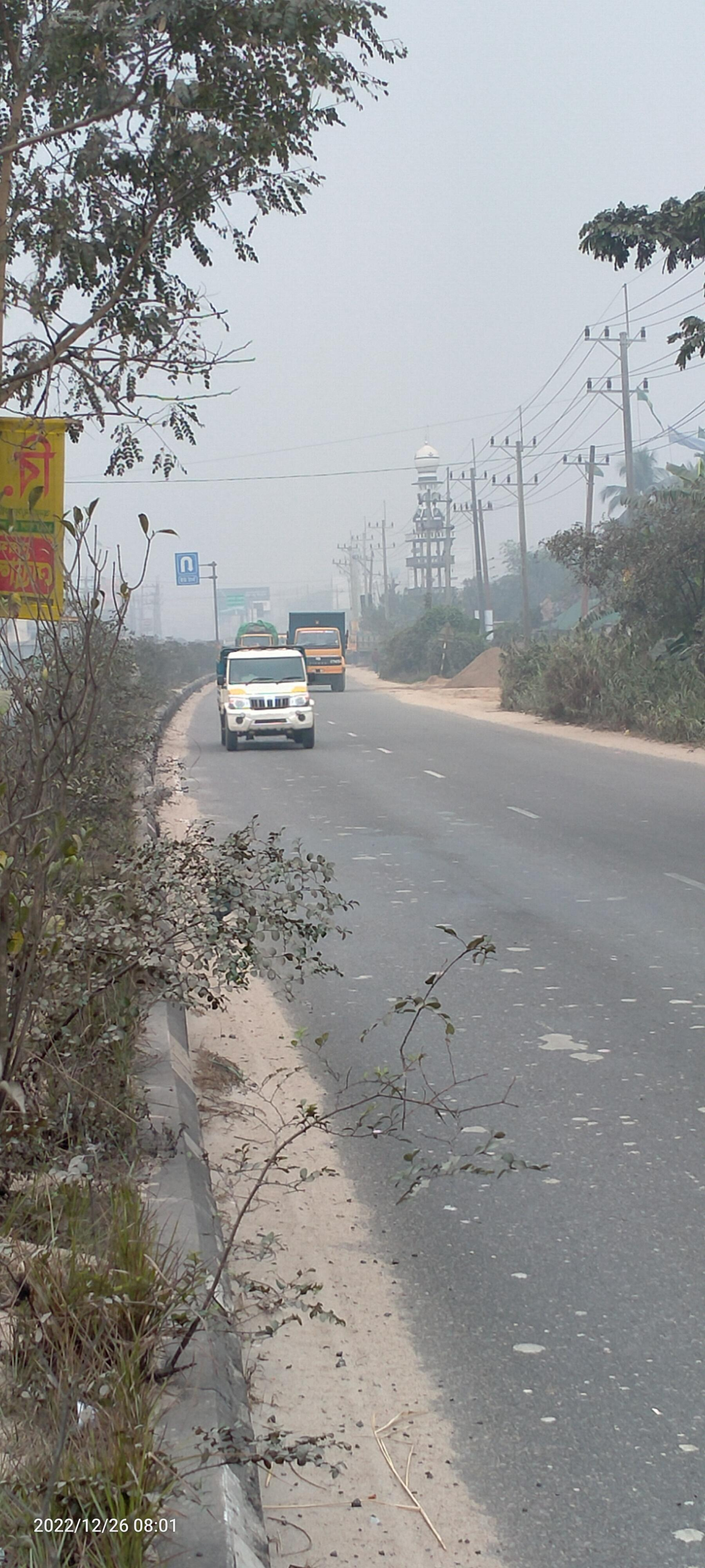Truck: (216, 643, 319, 752), (285, 610, 351, 694), (233, 621, 288, 670)
